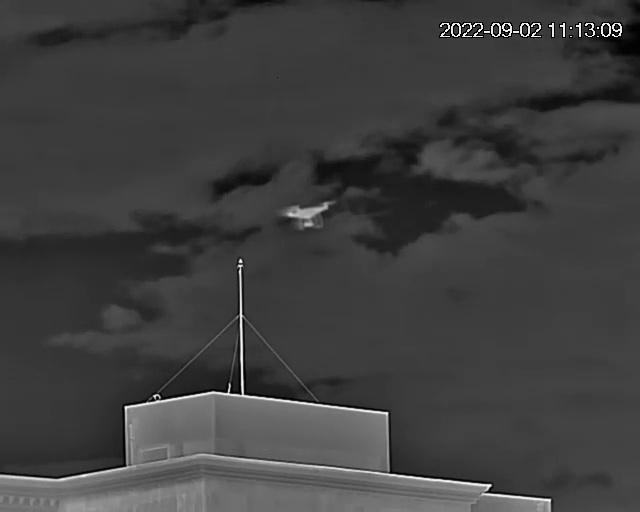DJI-Phantom: (282, 200, 335, 233)
